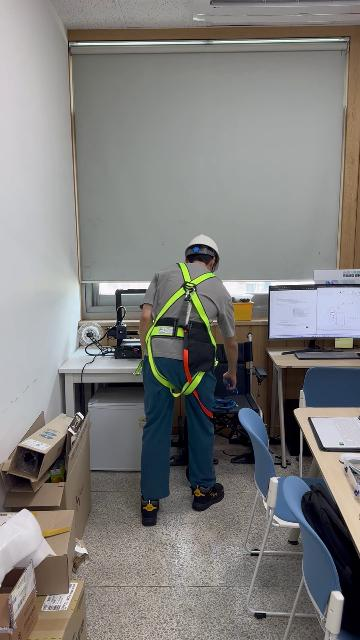helmet_worn: (185, 235, 219, 271)
shoe_worn: (191, 482, 224, 511), (140, 494, 159, 525)
vest_worn: (147, 269, 222, 375)
